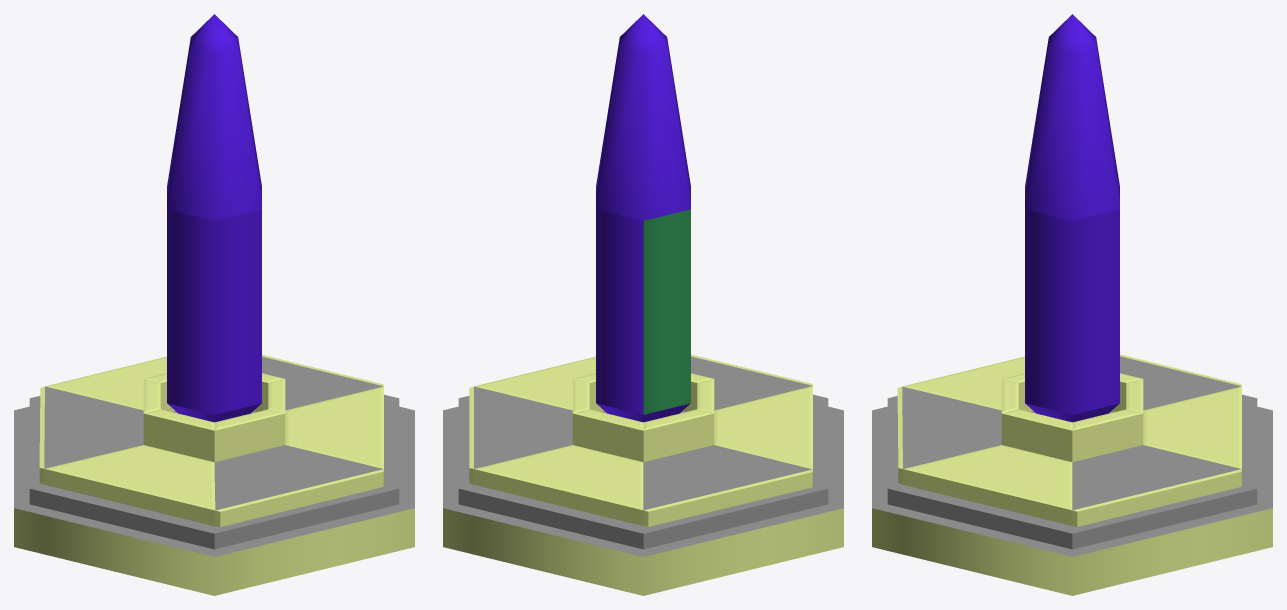
File: Obelysk 01.FBX
3 views of the same model, side by side, from view 1: azimuth 30°, elevation 25°; view 2: azimuth 150°, elevation 25°; view 3: azimuth 270°, elevation 25° (orthographic).
Parts seen in each view (by area): view 1: Cylinder001, Cone006; view 2: Cylinder001, Cone006; view 3: Cylinder001, Cone006.
Boxes of the visible parts, x1=… form: Cylinder001: x1=14, y1=354, x2=414, y2=595; Cone006: x1=167, y1=14, x2=261, y2=422; Cylinder001: x1=443, y1=354, x2=843, y2=595; Cone006: x1=596, y1=14, x2=690, y2=422; Cylinder001: x1=872, y1=354, x2=1272, y2=595; Cone006: x1=1025, y1=14, x2=1119, y2=422.
Bounding box in the file's own units: 76.08 × 65.89 × 87.82.
